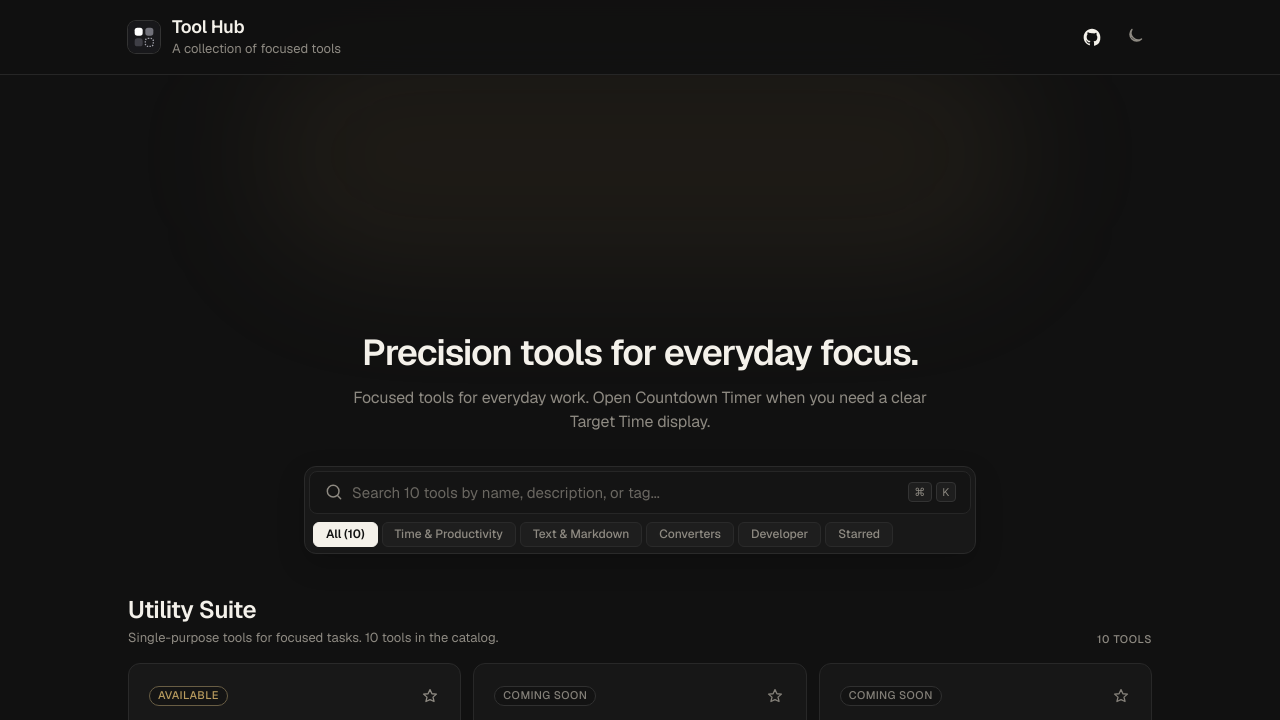
Test: Tool Hub homepage › intersects category filters with search and derives counts from matching tools
This screenshot has width=1280, height=720.
Click the button "Time & Productivity": [449, 534] box [382,522,516,547]
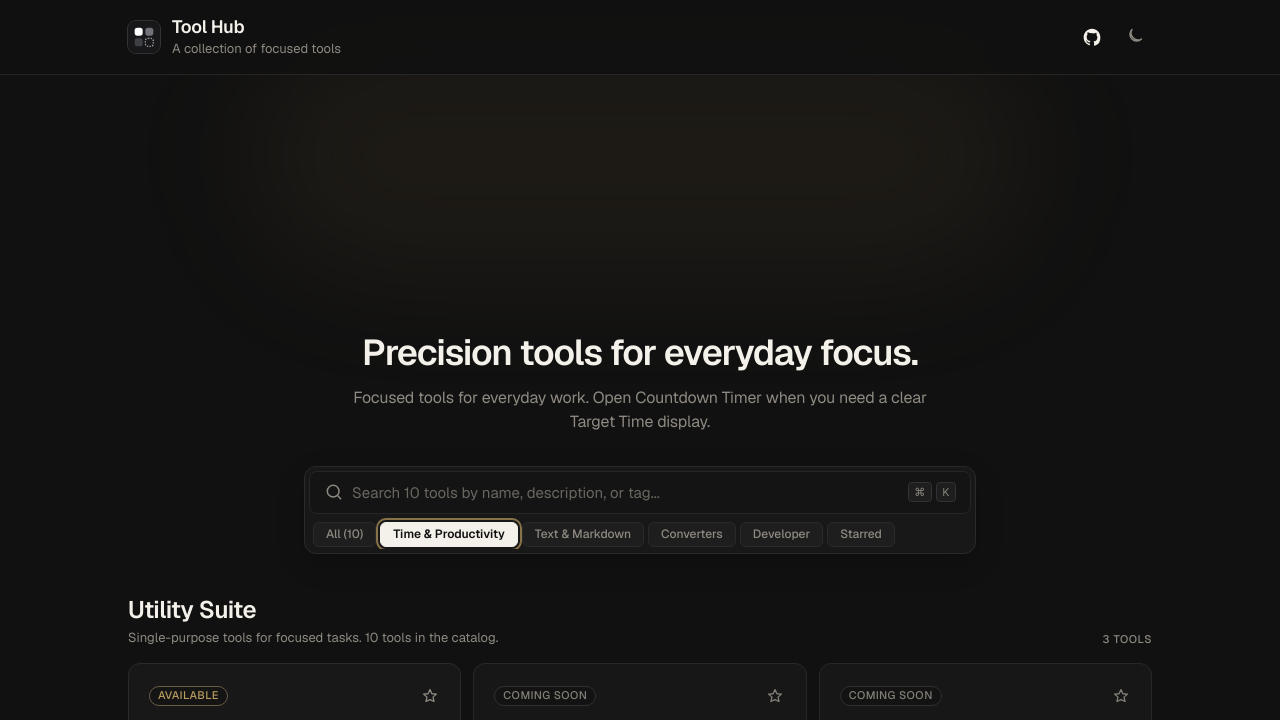
Expected: the text "3 tools" is shown, [1102,631,1152,647]
In the search field named "search tools": [623, 492] box [352,482,894,503], type "unix"
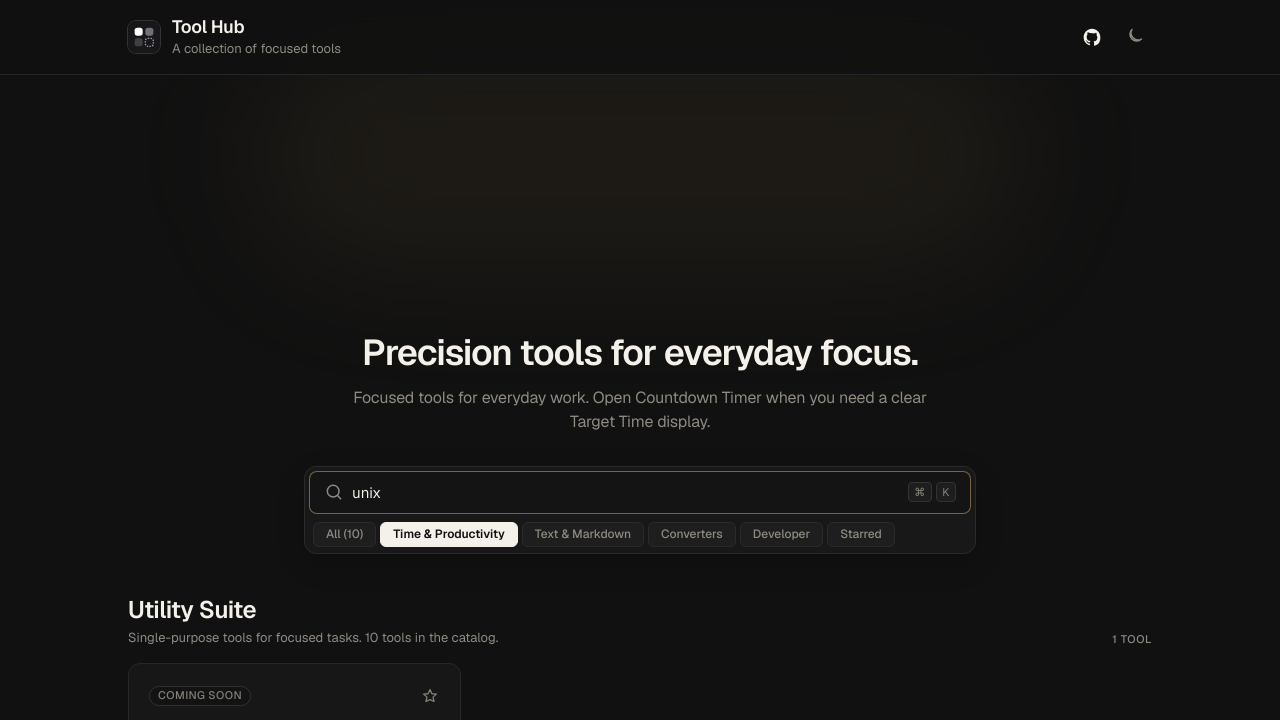
Expected: the text "1 tools?" is shown, [1112,632,1152,646]
